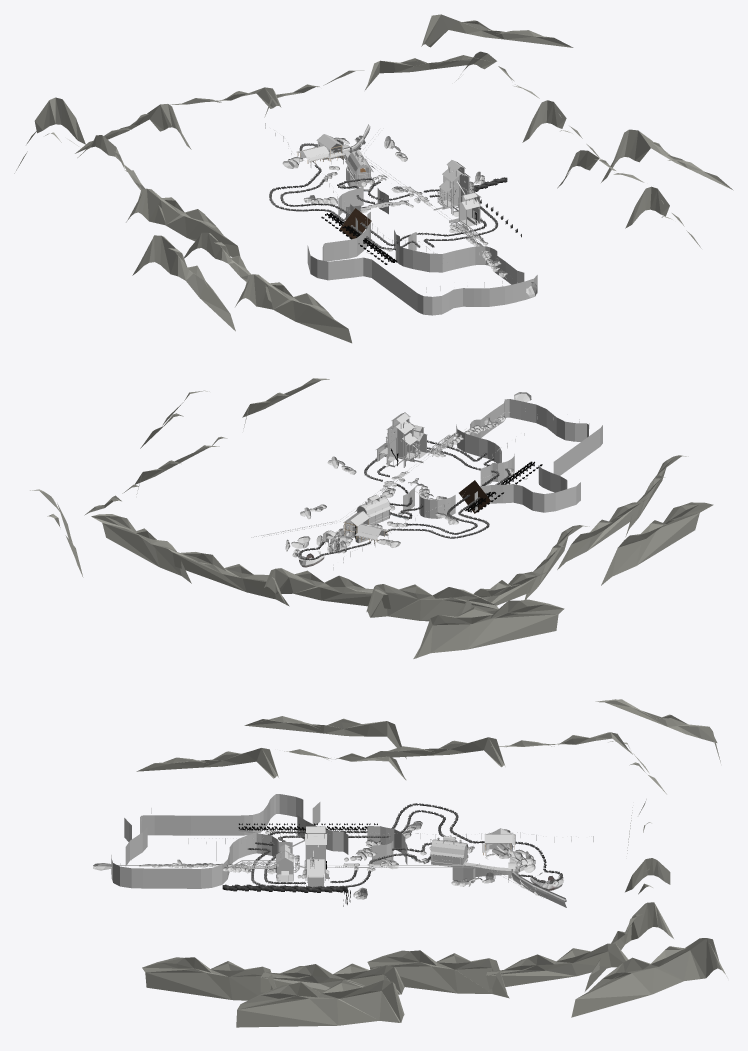
Rendered from track.glb.
3 renders of one model, top to bottom at view 1: azimuth 30°, elevation 25°; view 2: azimuth 150°, elevation 25°; view 3: azimuth 270°, elevation 25°, orthographic. The views are drawn at different scales.
Visible parts, largest first — view 1: mesh_1, mesh_40, mesh_14, mesh_16, mesh_11, mesh_31, mesh_28; view 2: mesh_1, mesh_40, mesh_14, mesh_16, mesh_11, mesh_31, mesh_28; view 3: mesh_1, mesh_40, mesh_14, mesh_16, mesh_11, mesh_31, mesh_28, mesh_25.
Part boxes in pixels (x1,y1,x2,y2): mesh_1: [14, 14, 733, 343]; mesh_40: [307, 186, 537, 315]; mesh_14: [282, 125, 537, 297]; mesh_16: [269, 138, 497, 249]; mesh_11: [296, 134, 480, 212]; mesh_31: [338, 144, 479, 221]; mesh_28: [265, 123, 479, 238]; mesh_1: [30, 378, 713, 658]; mesh_40: [403, 399, 602, 518]; mesh_14: [285, 392, 531, 560]; mesh_16: [298, 440, 510, 560]; mesh_11: [323, 412, 427, 539]; mesh_31: [323, 413, 426, 543]; mesh_28: [325, 418, 453, 545]; mesh_1: [136, 699, 727, 1027]; mesh_40: [111, 794, 407, 888]; mesh_14: [93, 821, 566, 907]; mesh_16: [247, 803, 562, 887]; mesh_11: [276, 826, 515, 876]; mesh_31: [277, 833, 518, 887]; mesh_28: [240, 833, 515, 886]; mesh_25: [222, 884, 350, 906].
Bounding box in the file's own units: 1006 × 161 × 1042.
2 materials, 2 textured.
